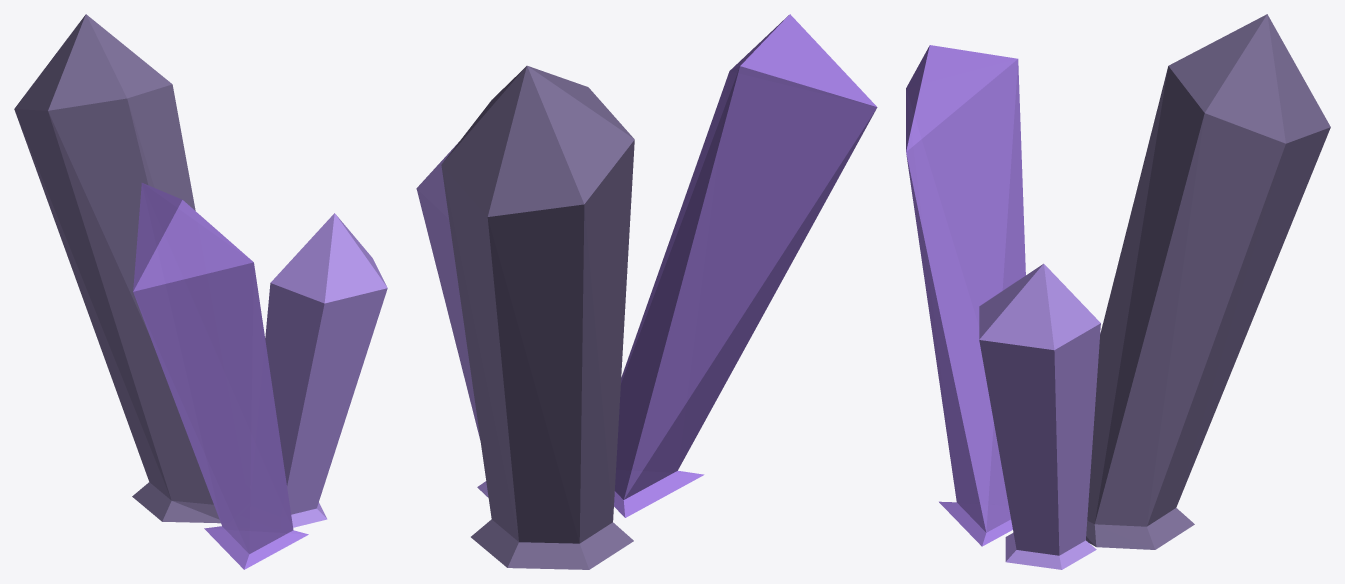
File: Crystal_purple_middle.fbx
The picture shows the model from 3 angles, left to right: view 1: azimuth 30°, elevation 25°; view 2: azimuth 150°, elevation 25°; view 3: azimuth 270°, elevation 25°; orthographic projection. The views are drawn at different scales.
Visible parts, largest first — view 1: prop_crystal_purple_middle; view 2: prop_crystal_purple_middle; view 3: prop_crystal_purple_middle.
Part boxes in pixels (x1=…): prop_crystal_purple_middle: x1=14, y1=14, x2=387, y2=569; prop_crystal_purple_middle: x1=416, y1=14, x2=877, y2=569; prop_crystal_purple_middle: x1=906, y1=14, x2=1330, y2=569.
Bounding box in the file's own units: 44.13 × 61.15 × 48.62.
